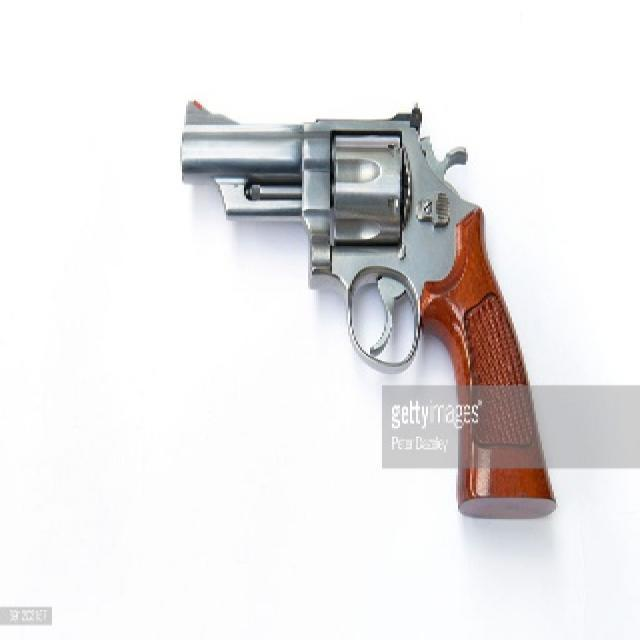weapon: (174, 92, 558, 520)
